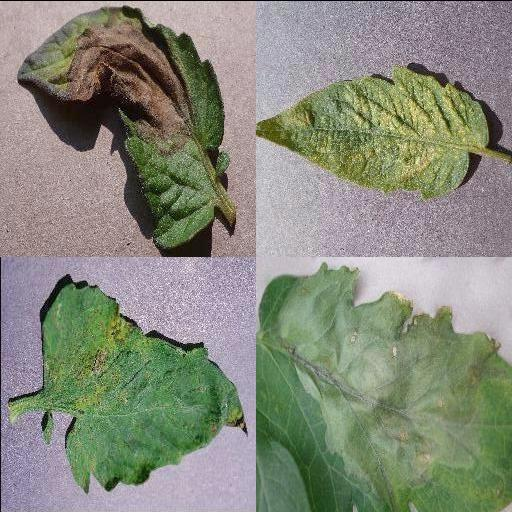Late Blight: (256, 260, 512, 512), (18, 4, 232, 246)
Septoria: (41, 281, 249, 494)
Spider Mites: (256, 66, 489, 197)
